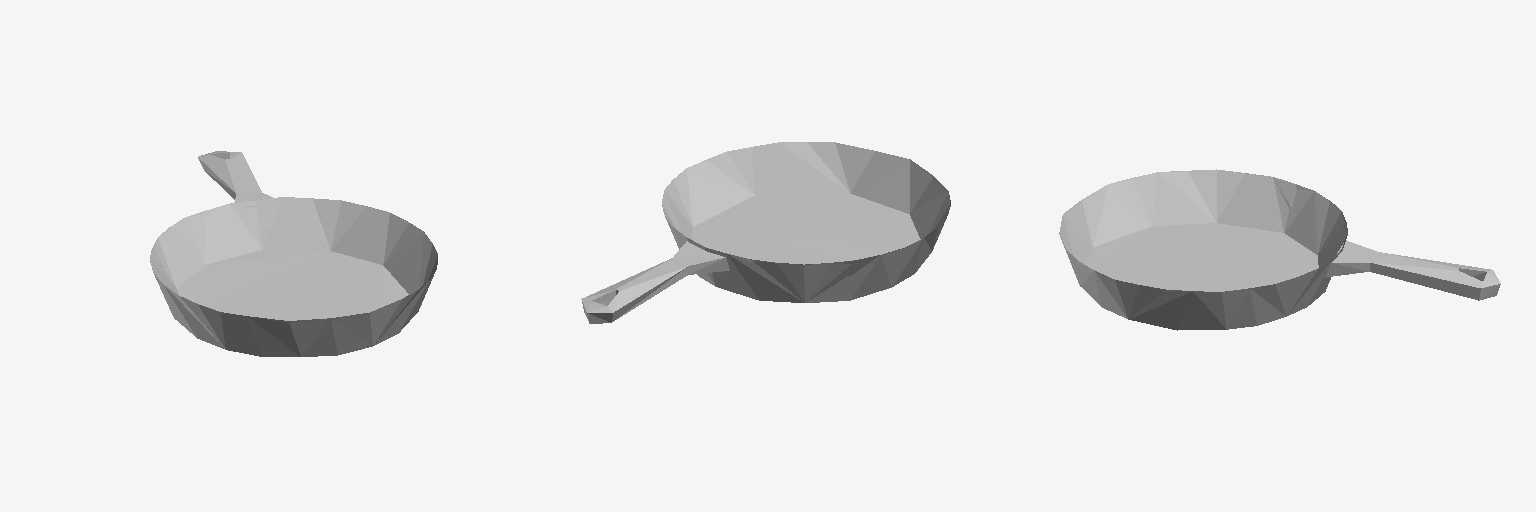
Rendered from Pan01.obj.
3 renders of one model, left to right at view 1: azimuth 30°, elevation 25°; view 2: azimuth 150°, elevation 25°; view 3: azimuth 270°, elevation 25°, orthographic.
Visible parts, largest first — view 1: Pan01_LOD0_defaultMaterial.001; view 2: Pan01_LOD0_defaultMaterial.001; view 3: Pan01_LOD0_defaultMaterial.001.
Part boxes in pixels (bbox=[...]): Pan01_LOD0_defaultMaterial.001: bbox=[150, 151, 437, 356]; Pan01_LOD0_defaultMaterial.001: bbox=[581, 142, 950, 323]; Pan01_LOD0_defaultMaterial.001: bbox=[1059, 169, 1500, 330].
Size of the model in its own units: 0.4023 by 0.0795 by 0.6172.